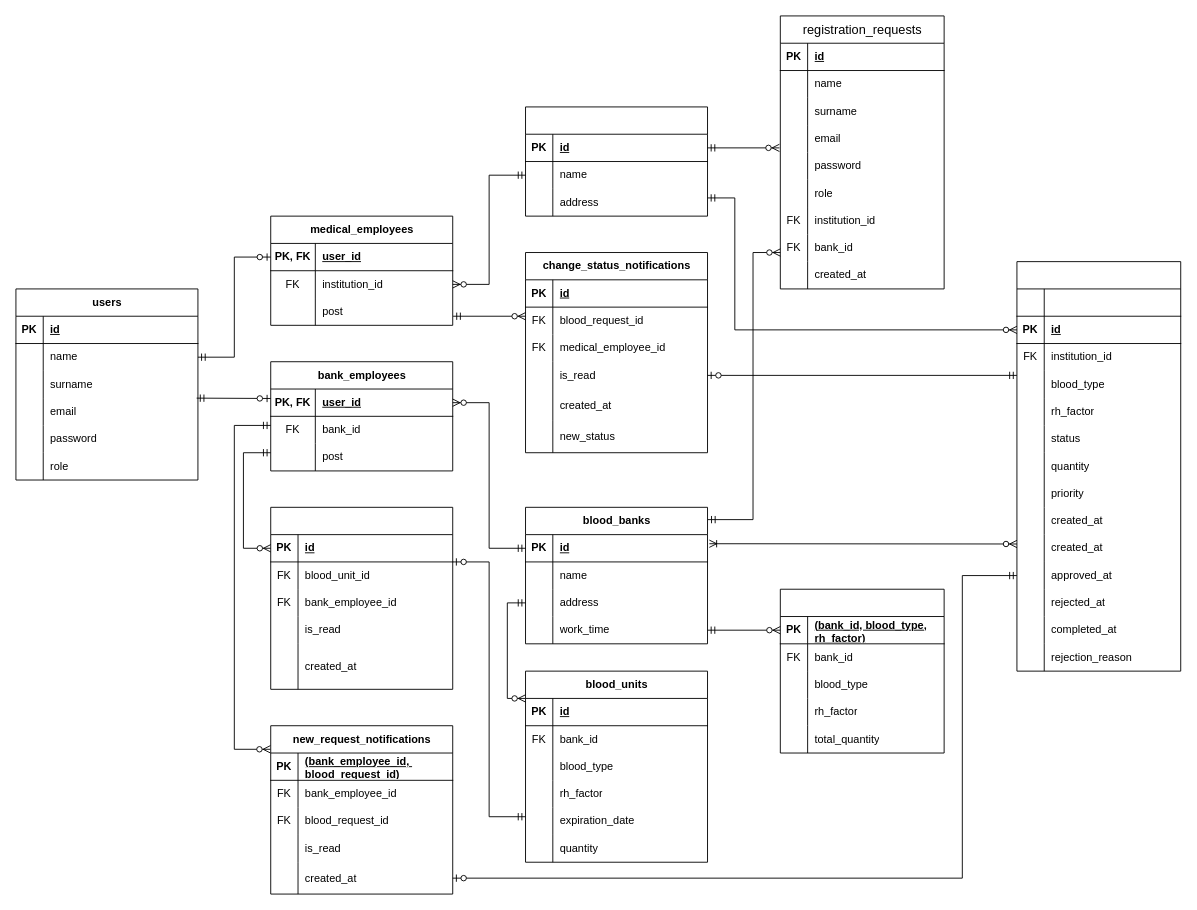
The diagram is 1197 pixels wide and 910 high, and some of its shapes have lost their labels. Here are the shapes that lost their labels. From the top down, the box of each, then its label:
(525, 106, 708, 216): medical_institutions
(1016, 261, 1181, 671): blood_requests
(270, 506, 453, 689): expiration_notifications
(779, 588, 944, 753): blood_inventories
